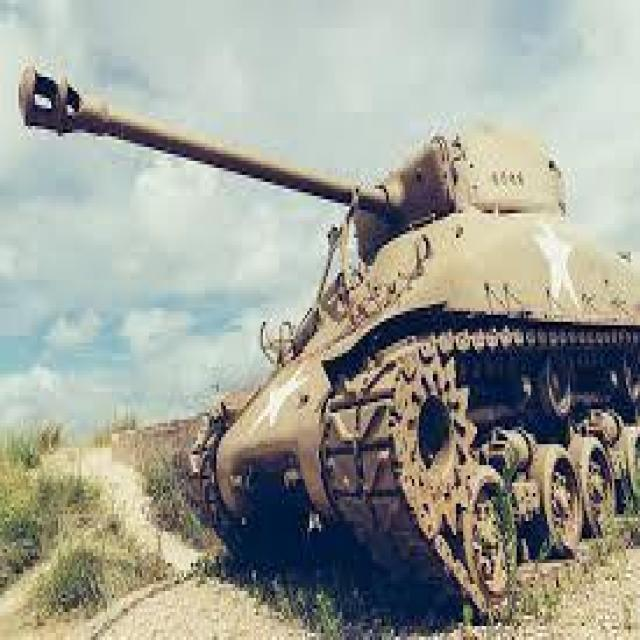MIL_MBT: (13, 9, 569, 628)
